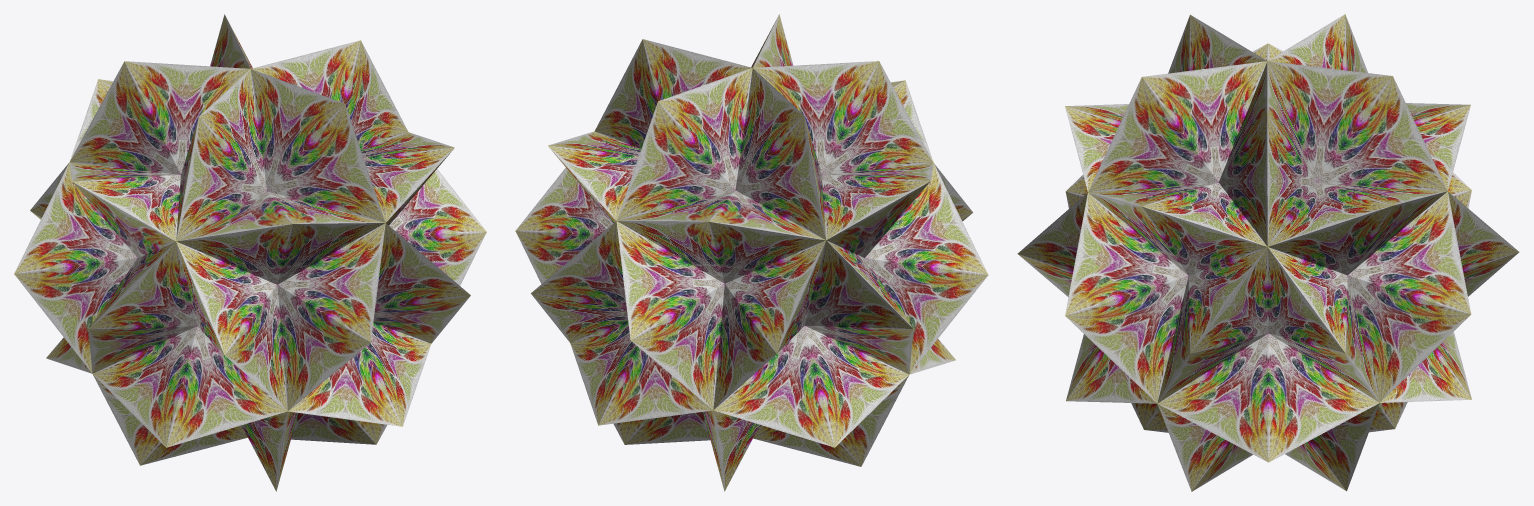
File: Mobius120a_7.obj
3 renders of one model, left to right at view 1: azimuth 30°, elevation 25°; view 2: azimuth 150°, elevation 25°; view 3: azimuth 270°, elevation 25°, orthographic. The views are drawn at different scales.
Bounding box in the file's own units: 3.62 × 3.25 × 3.8.
Materials: 1 (1 with a texture image).
